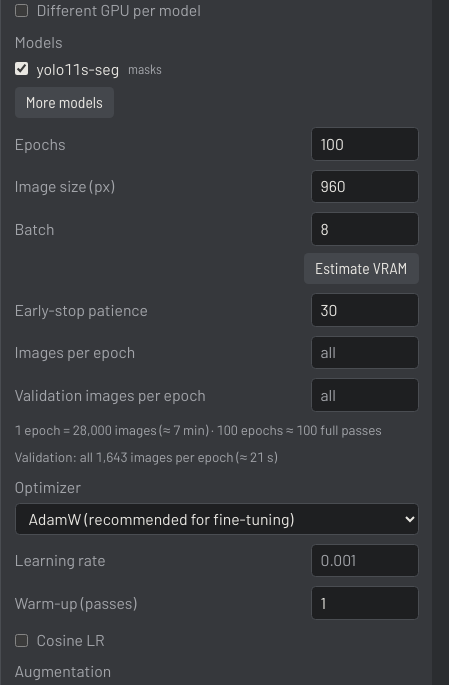
Test: TrainSidebar images per epoch › shows the epoch estimate, with minutes from a run measured on the same model, image size and GPU
(page scrolled)
Expected: the text "1 epoch = 28,000 images (≈ 7 min) · 100 epochs ≈ 100 full passes" is shown, [14,421,418,439]
Type "7000" into the number field labelled "Images per epoch".
click(364, 352); type("7000")  # box [310,336,418,369]
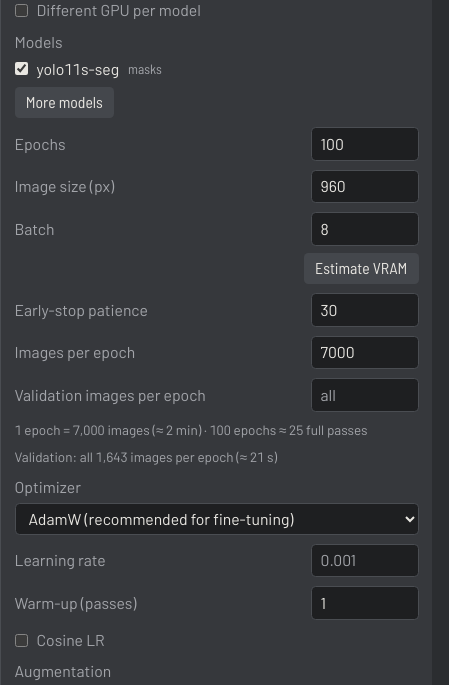
Type "400" into the number field labelled "Validation images per epoch".
click(364, 395); type("400")  # box [310,378,418,412]
(page scrolled)
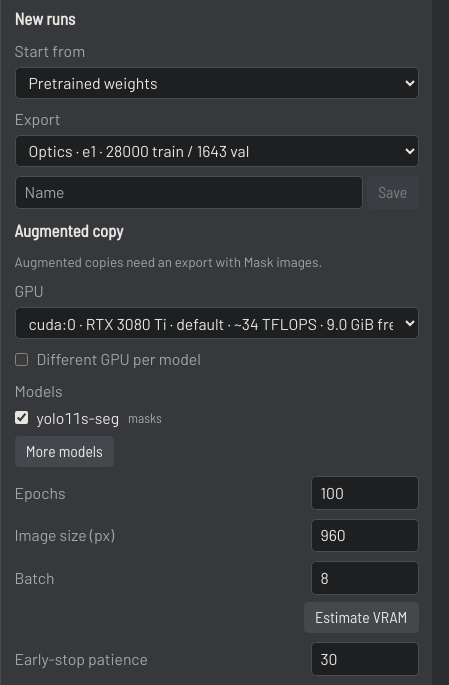
Select "cuda:1 · RTX 2080 Ti · ~14 TFLOPS · 5.0 GiB free" in the dropdown labelled "GPU" at {"x": 216, "y": 323}, box [14,307,418,339]
(page scrolled)
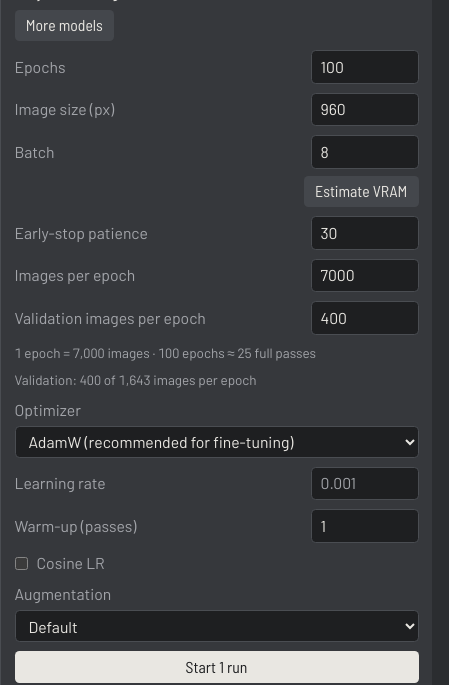
Expected: the text "1 epoch = 7,000 images · 100 epochs ≈ 25 full passes" is shown, [14,344,316,361]
